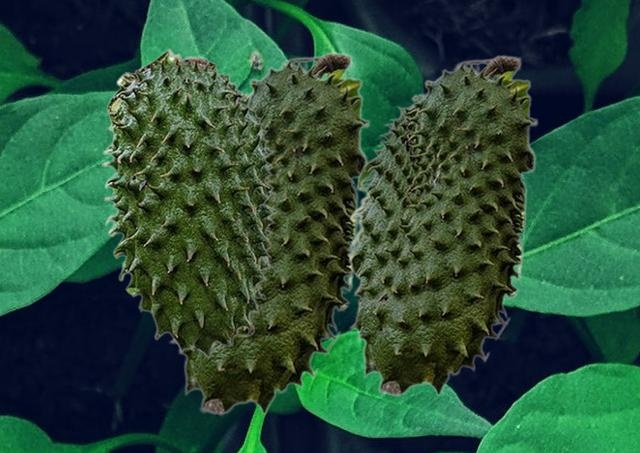guyabano: (168, 51, 369, 415), (347, 54, 537, 396), (101, 47, 278, 357)
